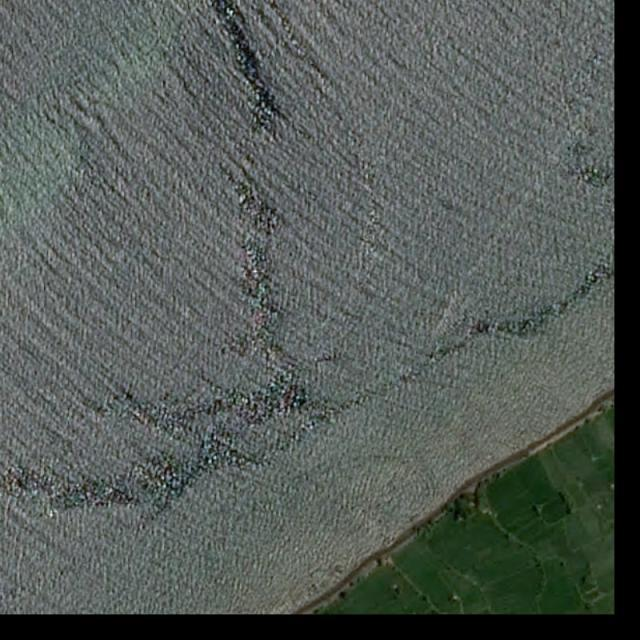ship: (427, 344, 434, 352)
